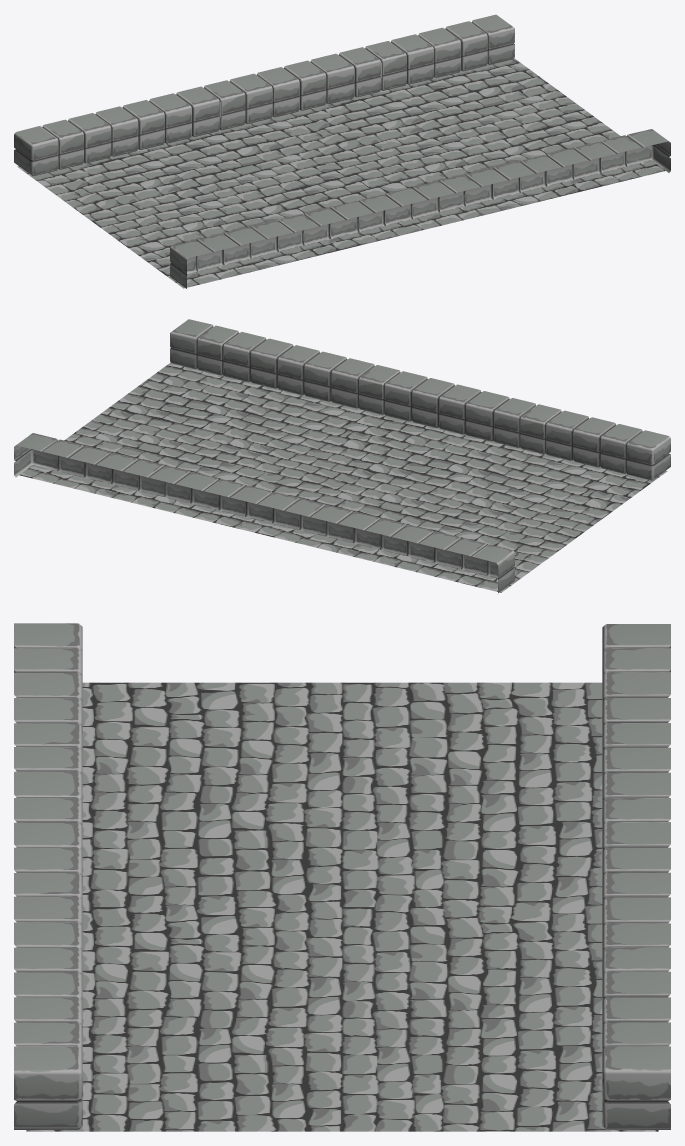
Rendered from mod_med_her_part_a_03.fbx.
3 views of the same model, one above another, from view 1: azimuth 30°, elevation 25°; view 2: azimuth 150°, elevation 25°; view 3: azimuth 270°, elevation 25° (orthographic). The views are drawn at different scales.
Visible parts, largest first — view 1: mod_med_her_part_a_03; view 2: mod_med_her_part_a_03; view 3: mod_med_her_part_a_03.
Part boxes in pixels (box(x1,y1,x2,y2)): mod_med_her_part_a_03: box(14, 14, 670, 288); mod_med_her_part_a_03: box(14, 319, 670, 593); mod_med_her_part_a_03: box(14, 623, 670, 1131).
Size of the model in its own units: 180 by 11.47 by 111.
